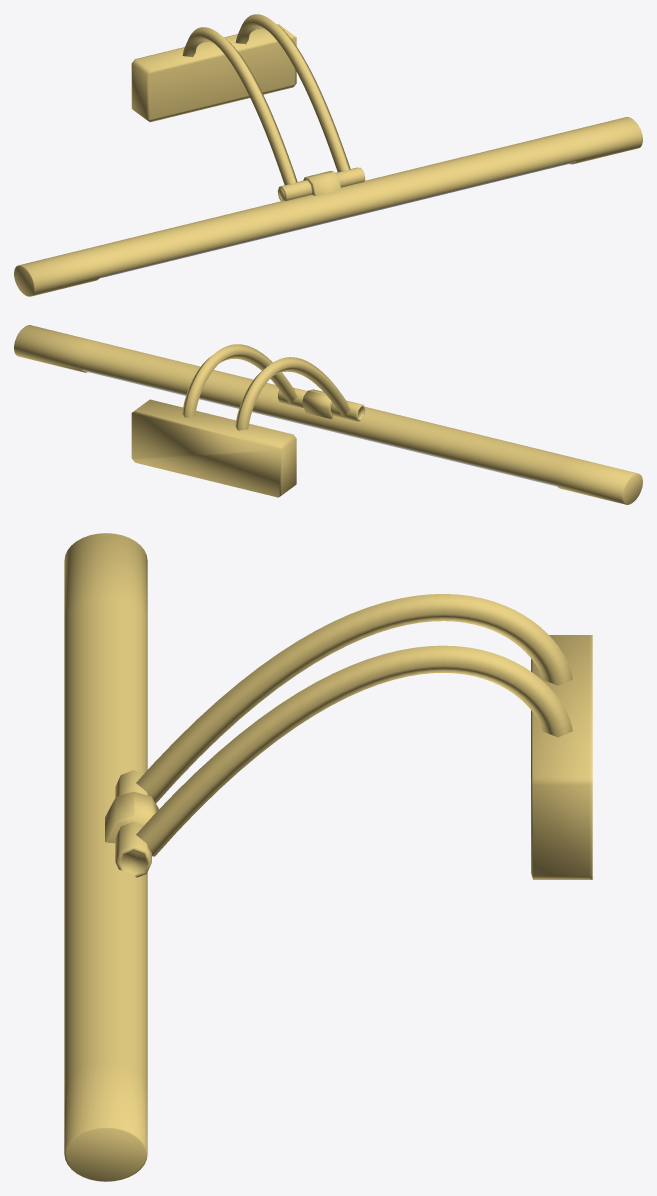
The model's file is light.fbx.
3 views of the same model, one above another, from view 1: azimuth 30°, elevation 25°; view 2: azimuth 150°, elevation 25°; view 3: azimuth 270°, elevation 25° (orthographic). The views are drawn at different scales.
Visible parts, largest first — view 1: Light; view 2: Light; view 3: Light.
Boxes of the visible parts, box(x1,y1,x2,y2) form: Light: box(14, 14, 642, 296); Light: box(14, 325, 642, 504); Light: box(64, 533, 592, 1181).
Size of the model in its own units: 69 by 14.38 by 25.9.
